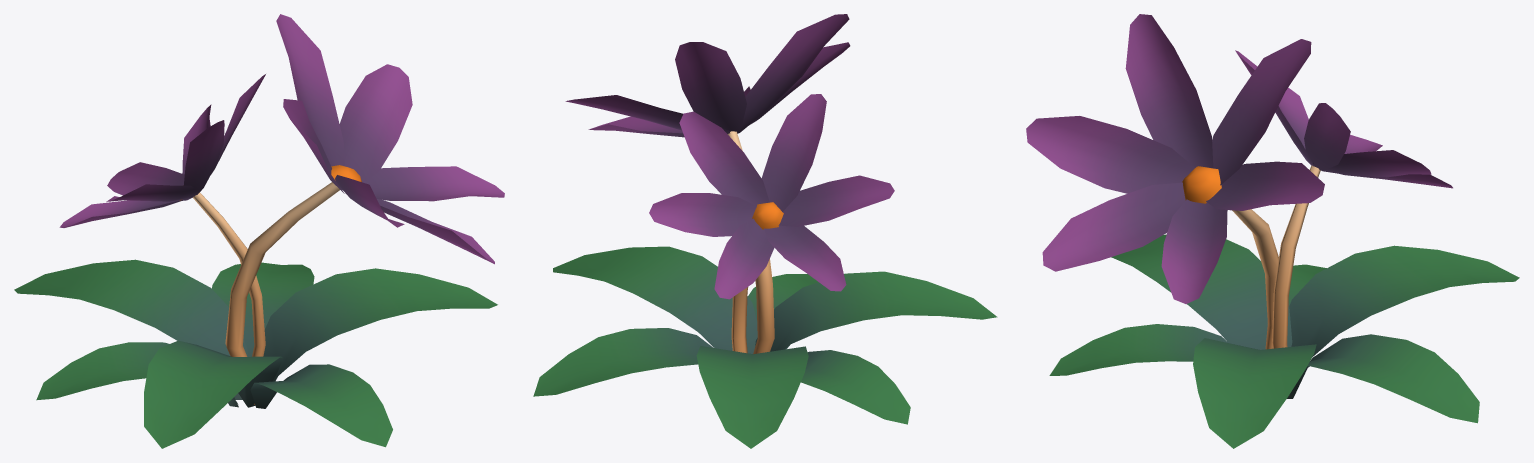
Rendered from flower9.glb.
The picture shows the model from 3 angles, left to right: view 1: azimuth 30°, elevation 25°; view 2: azimuth 150°, elevation 25°; view 3: azimuth 270°, elevation 25°; orthographic projection. The views are drawn at different scales.
Parts seen in each view (by area): view 1: Flower.009; view 2: Flower.009; view 3: Flower.009.
Boxes of the visible parts, x1=… form: Flower.009: x1=14, y1=14, x2=504, y2=448; Flower.009: x1=533, y1=14, x2=997, y2=448; Flower.009: x1=1026, y1=14, x2=1519, y2=448.
Bounding box in the file's own units: 2.16 × 1.81 × 2.15.
1 material, 1 textured.
